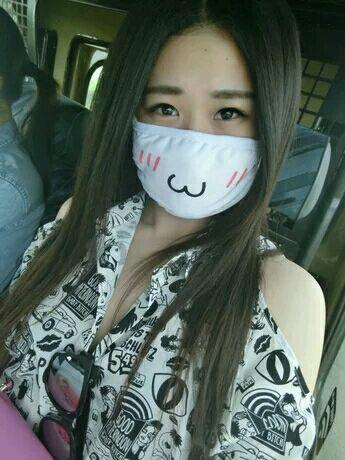OK: (133, 75, 280, 222)
